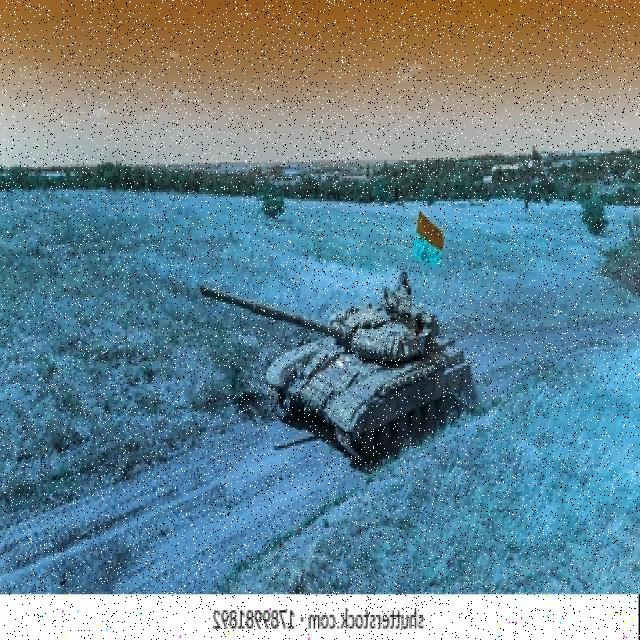MIL_MBT: (200, 271, 473, 472)
